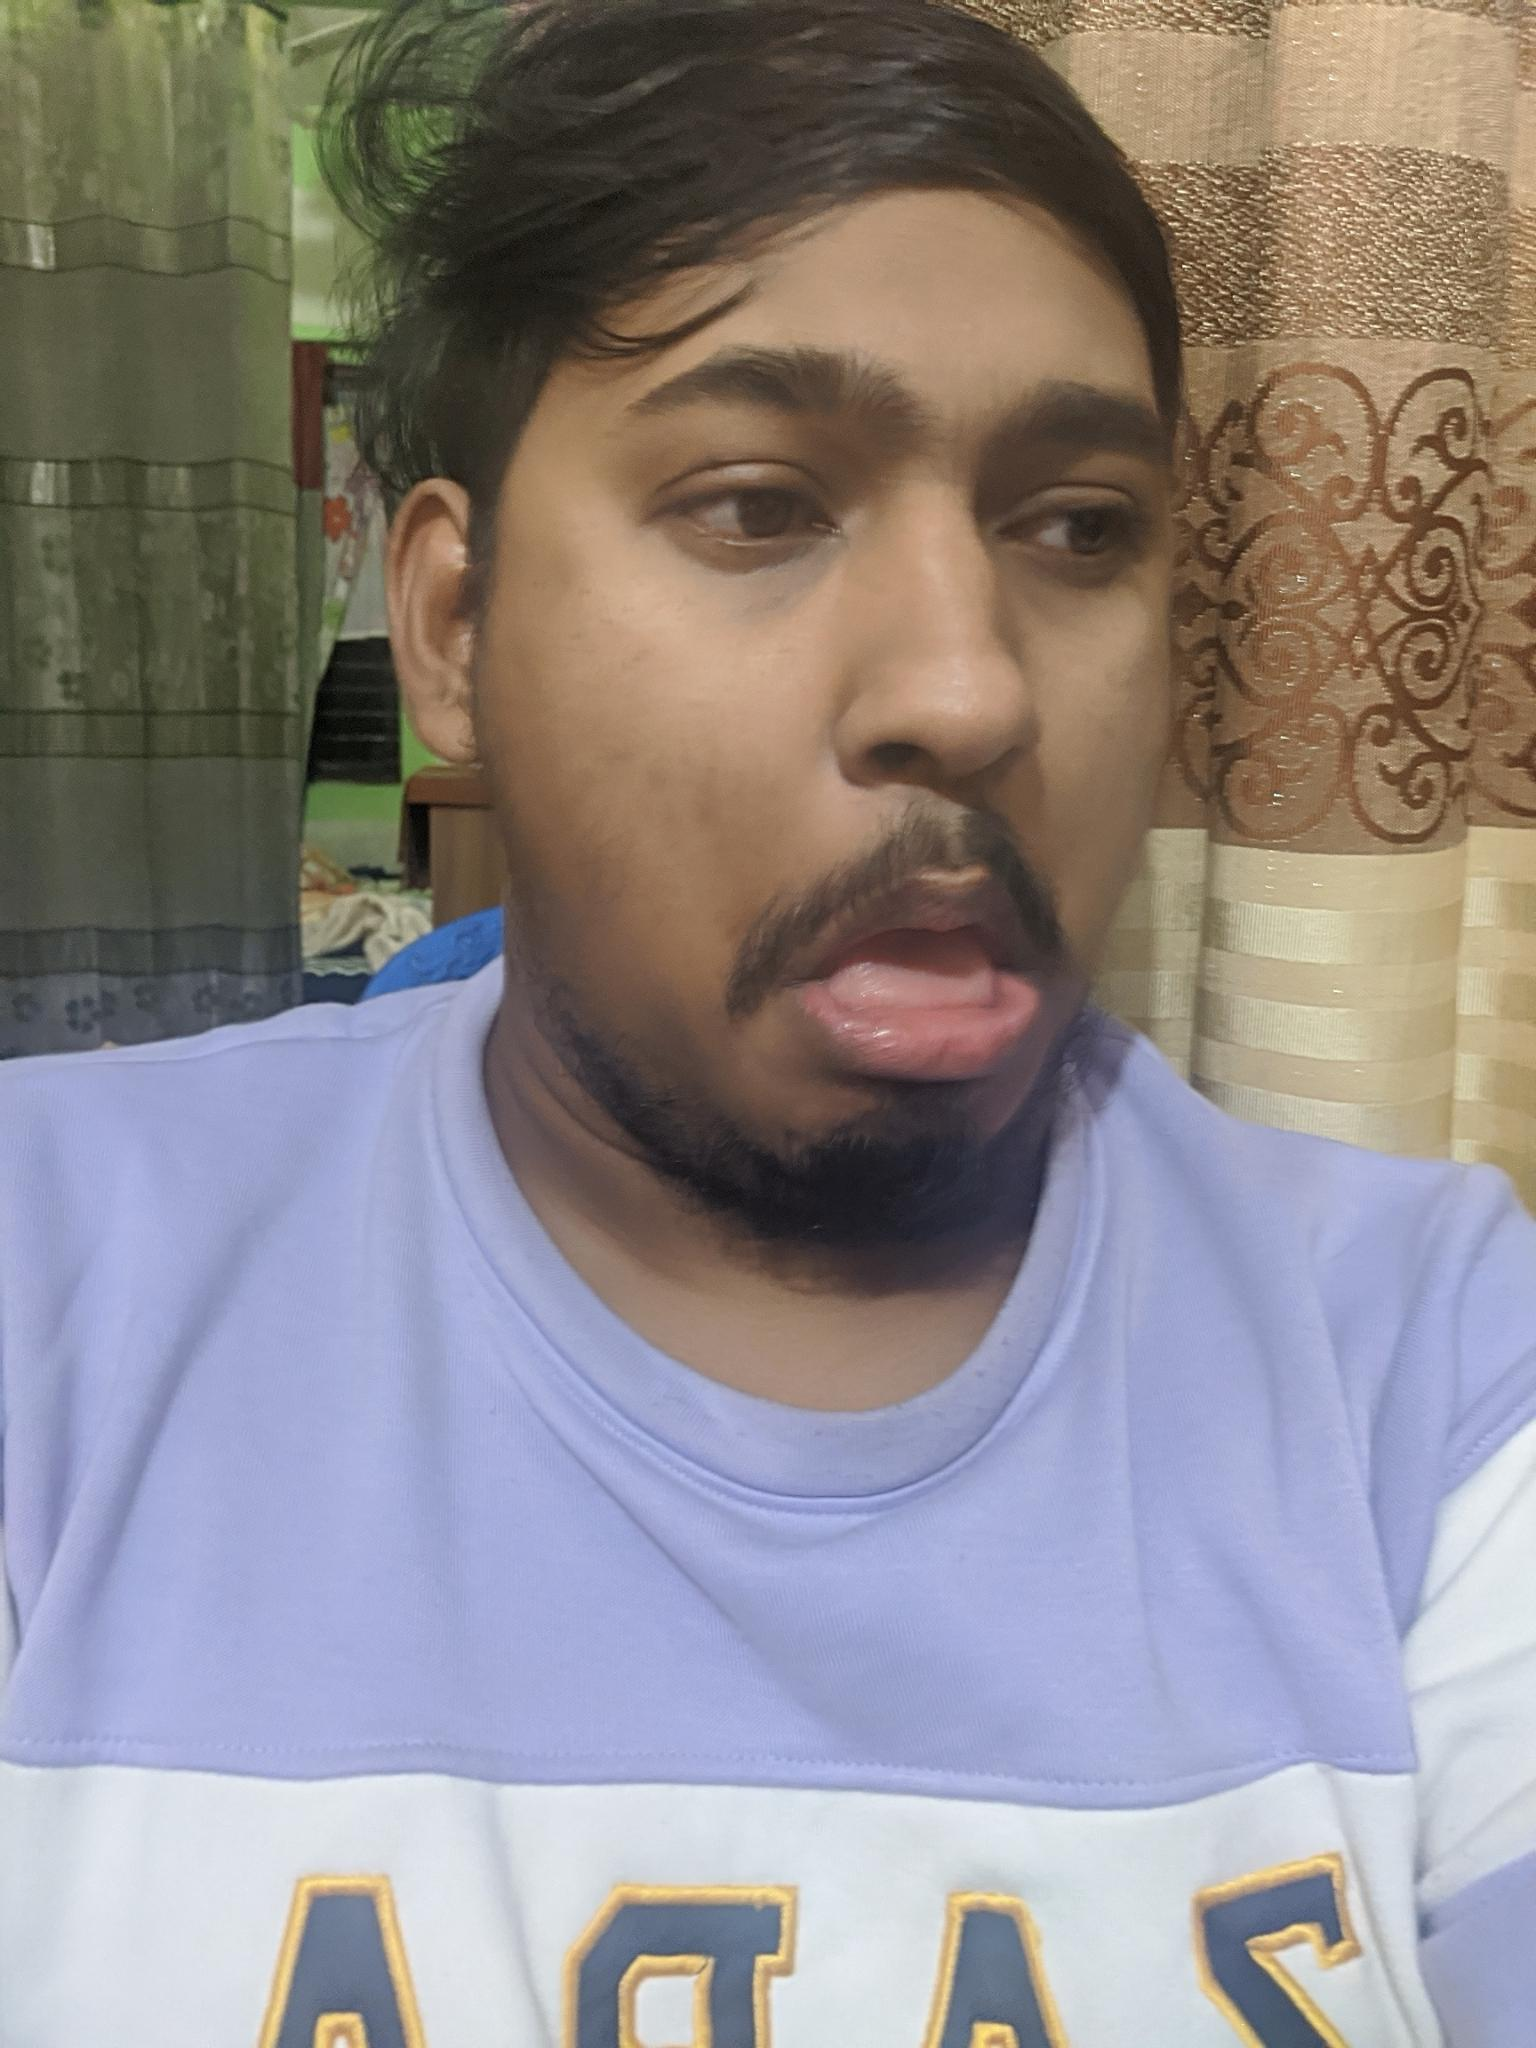Disgust: (618, 281, 1197, 1229)
